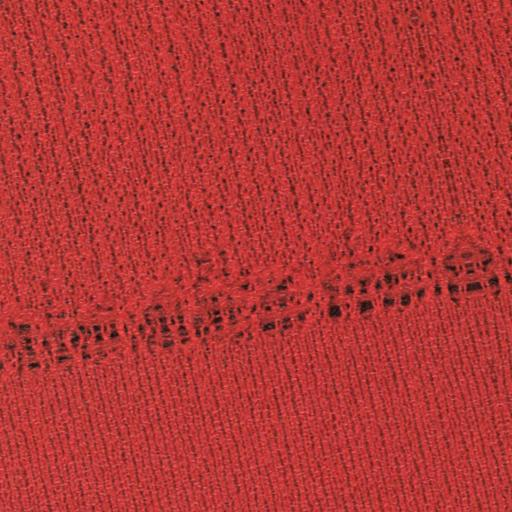slub: (2, 241, 512, 392)
